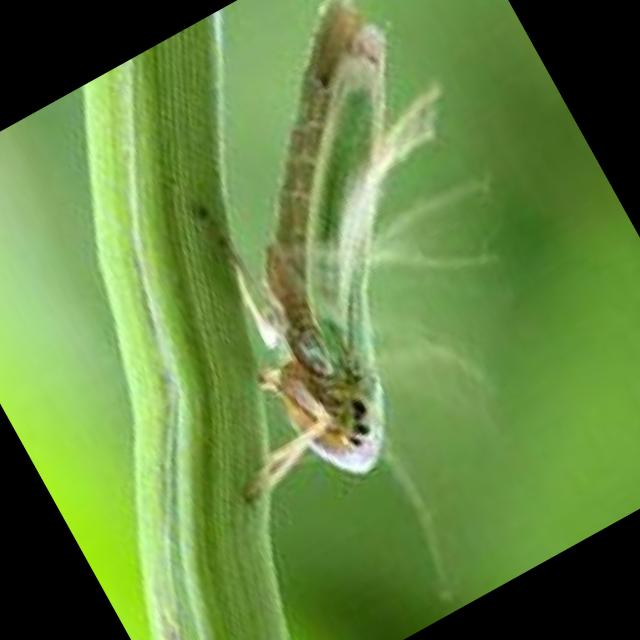green-leafhopper: (111, 0, 551, 493)
